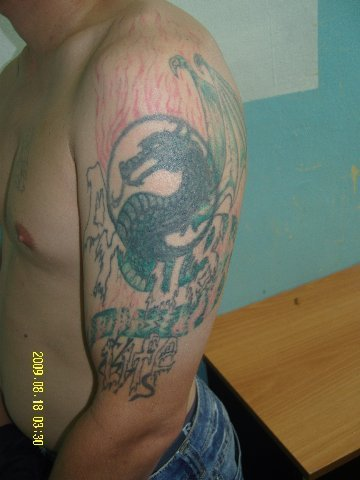tatu6_drakon: (68, 37, 257, 426)
